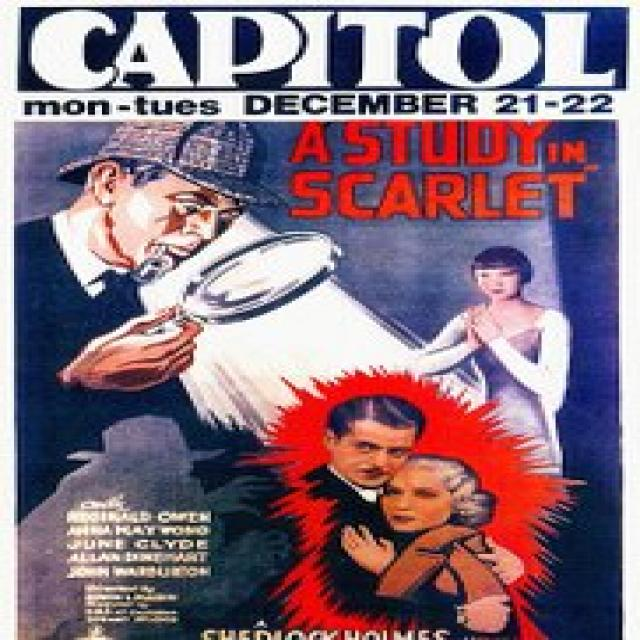movie-judul: (287, 116, 604, 226)
picture: (16, 121, 620, 640)
